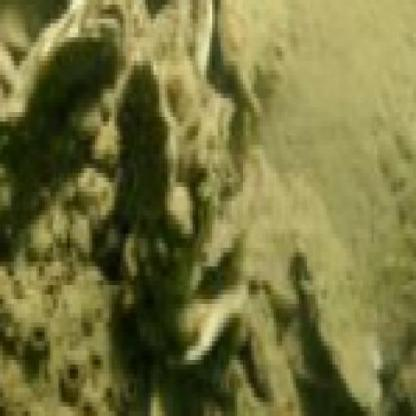Oyster-Closed: (168, 293, 250, 371)
Oyster-Open: (117, 63, 215, 321), (5, 2, 123, 124)
